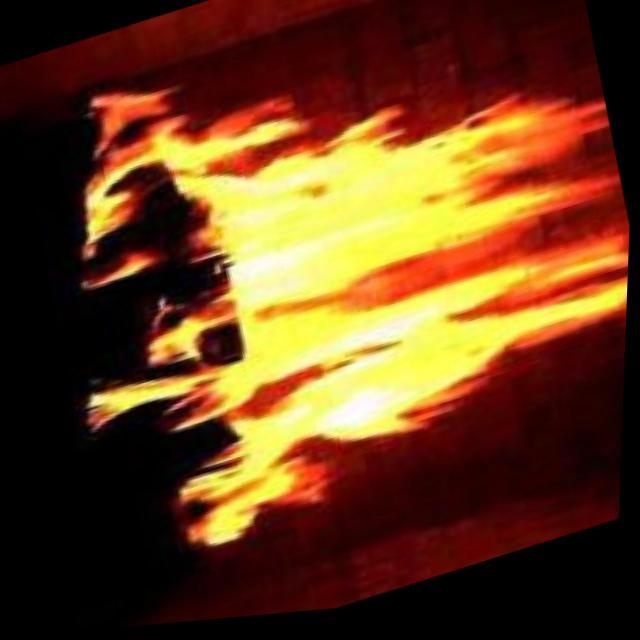fire: (120, 55, 624, 545)
